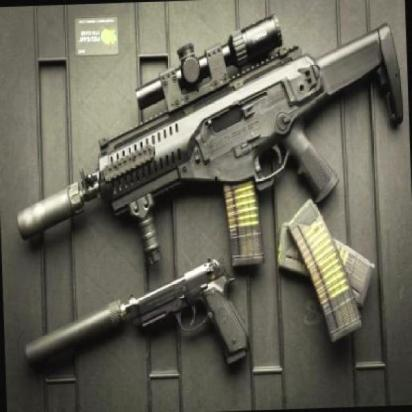Gun: (9, 3, 405, 309)
